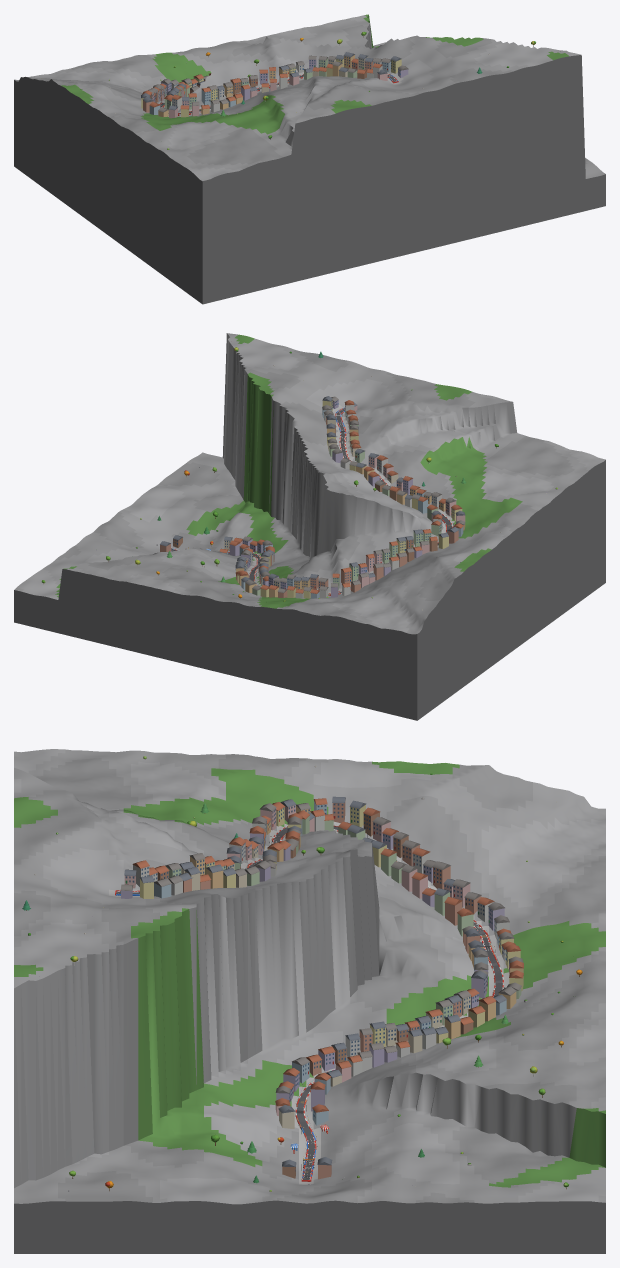
3 renders of one model, top to bottom at view 1: azimuth 30°, elevation 25°; view 2: azimuth 150°, elevation 25°; view 3: azimuth 270°, elevation 25°, orthographic. The views are drawn at different scales.
Parts seen in each view (by area): view 1: grass, buildings; view 2: grass, buildings; view 3: grass, buildings, road, hay.
Boxes of the visible parts, bbox=[...] form: grass: bbox=[14, 14, 605, 304]; buildings: bbox=[141, 52, 408, 118]; grass: bbox=[14, 333, 605, 720]; buildings: bbox=[160, 396, 465, 598]; grass: bbox=[14, 749, 605, 1253]; buildings: bbox=[120, 796, 523, 1179]; road: bbox=[116, 826, 502, 1179]; hay: bbox=[115, 824, 503, 1181].
Size of the model in its own units: 500 by 197 by 405.
